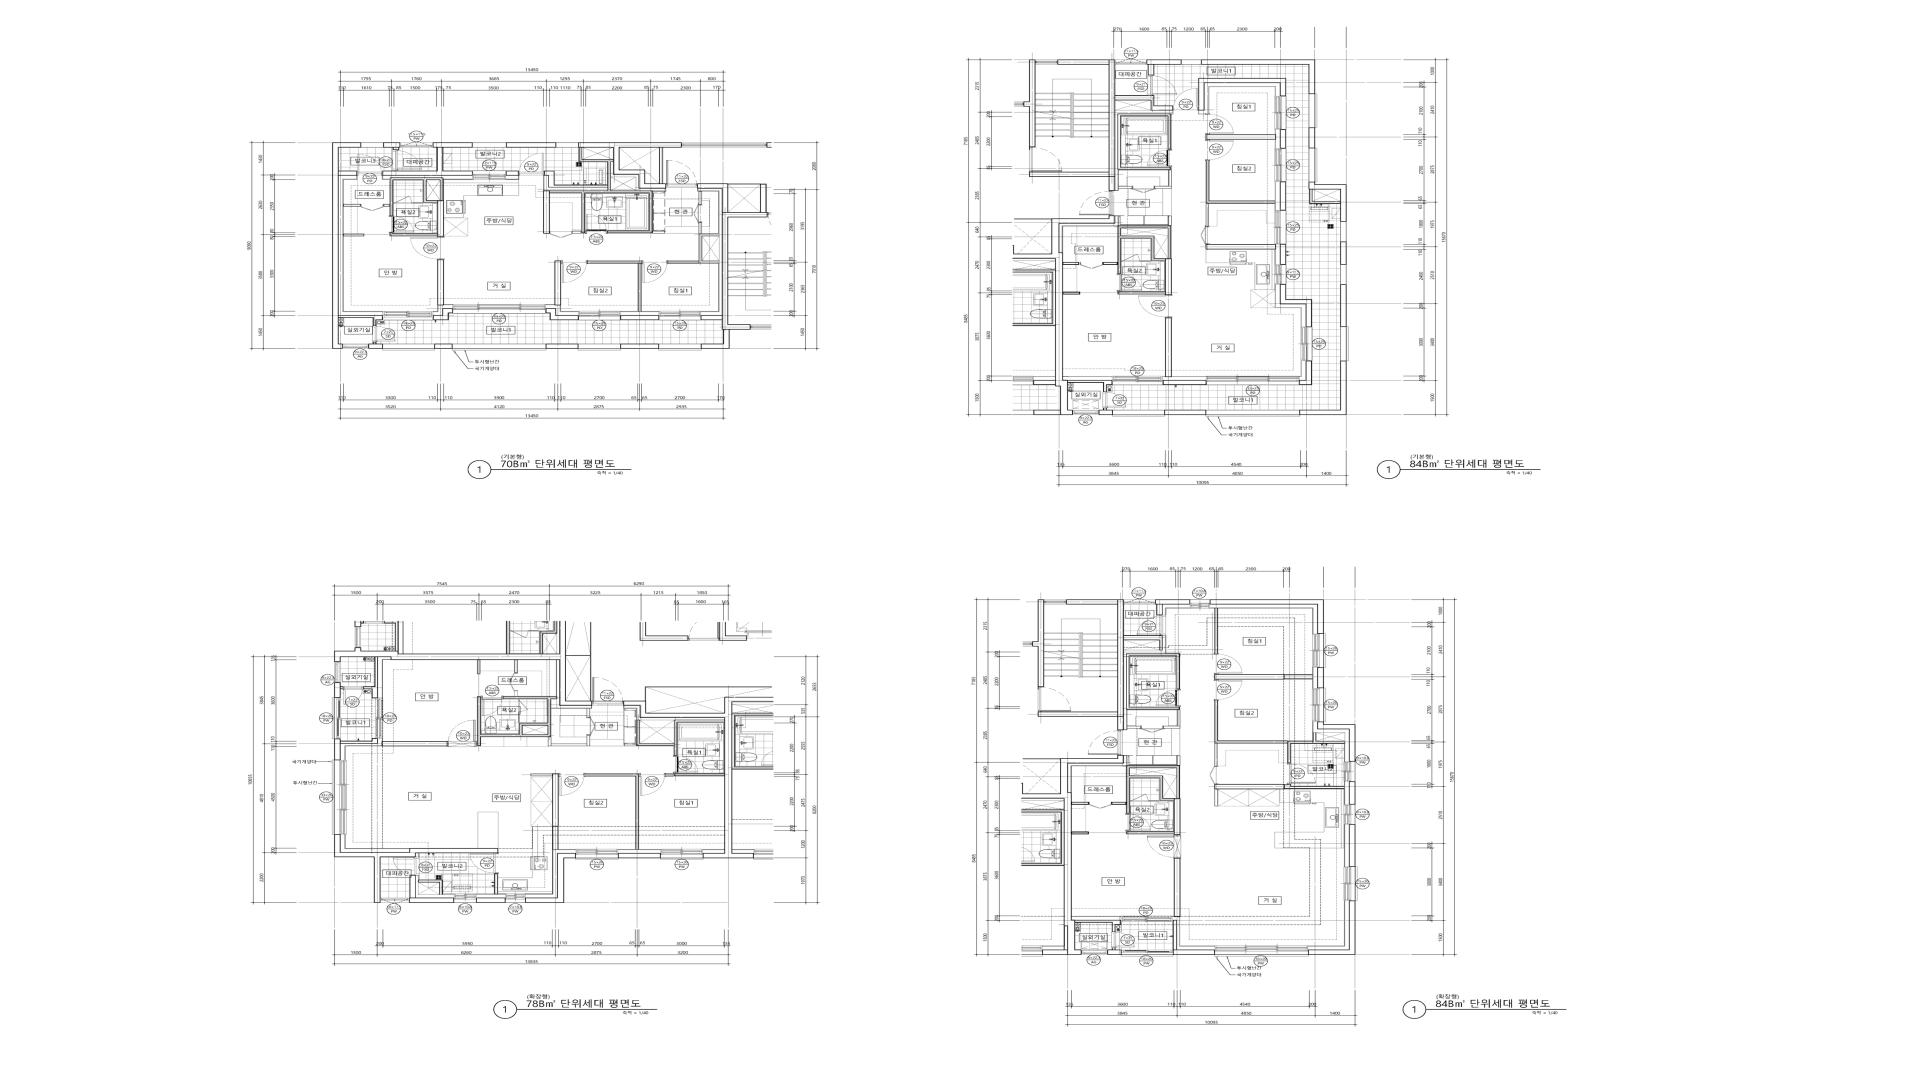door: (666, 160, 698, 187), (1088, 731, 1121, 756), (1038, 687, 1071, 712), (410, 236, 444, 260), (447, 720, 477, 746), (1080, 191, 1112, 216), (592, 678, 624, 703), (1029, 148, 1062, 171), (1147, 835, 1180, 858), (1138, 295, 1172, 318), (393, 150, 422, 171), (1137, 615, 1166, 636), (469, 853, 498, 874), (1172, 88, 1199, 111), (518, 153, 545, 175), (1205, 140, 1233, 161), (1288, 764, 1316, 785), (1215, 679, 1242, 700), (1147, 75, 1176, 95), (642, 261, 667, 284), (558, 774, 584, 795), (638, 774, 665, 795), (560, 261, 587, 282), (1205, 115, 1233, 135), (1215, 654, 1242, 674), (357, 154, 382, 175), (393, 857, 419, 876), (1126, 814, 1151, 832), (480, 696, 502, 716), (585, 214, 608, 233), (1147, 149, 1171, 167), (674, 756, 698, 774), (1156, 690, 1180, 707), (390, 216, 414, 233), (1118, 274, 1142, 291), (1102, 392, 1126, 407), (1112, 932, 1134, 948), (373, 326, 396, 342), (343, 687, 363, 704), (509, 673, 518, 691), (360, 204, 384, 211), (1133, 186, 1155, 193), (550, 231, 572, 237), (1089, 802, 1112, 808), (1141, 727, 1163, 733), (1080, 262, 1102, 269), (694, 204, 702, 223), (1209, 766, 1217, 785), (1130, 794, 1149, 802), (587, 717, 595, 736), (1201, 227, 1209, 244), (1121, 255, 1139, 261), (518, 699, 527, 712), (393, 196, 411, 203)
wall: (334, 621, 592, 705), (1029, 59, 1172, 191), (624, 698, 732, 858), (1038, 600, 1163, 731), (1060, 756, 1124, 955), (543, 142, 682, 233), (1055, 216, 1116, 415), (698, 183, 767, 349), (334, 835, 498, 903), (332, 142, 382, 349), (1215, 700, 1345, 764), (339, 175, 382, 315), (1102, 225, 1172, 295), (1112, 766, 1180, 835), (1205, 161, 1275, 227), (1116, 111, 1172, 191), (584, 774, 640, 849), (1124, 636, 1166, 731), (477, 696, 556, 746), (1209, 600, 1324, 634), (1201, 59, 1315, 94), (1211, 604, 1317, 634), (390, 178, 444, 236), (1117, 113, 1171, 170), (698, 189, 721, 315), (1126, 654, 1180, 709), (382, 142, 472, 175), (1199, 78, 1286, 111), (587, 261, 642, 311), (1199, 83, 1280, 115), (525, 853, 576, 903), (1308, 901, 1356, 955), (525, 849, 576, 898), (1300, 361, 1346, 415), (551, 659, 592, 717), (1068, 756, 1127, 793), (1059, 216, 1118, 253), (1308, 901, 1349, 949), (611, 162, 666, 191), (1317, 721, 1356, 762), (1308, 182, 1346, 222), (1312, 721, 1349, 762), (624, 705, 724, 720), (1172, 920, 1215, 955), (1172, 916, 1215, 949), (1280, 285, 1312, 327), (1275, 285, 1305, 327), (409, 876, 454, 903), (340, 835, 409, 852), (566, 655, 591, 700), (1033, 600, 1044, 687), (543, 175, 608, 191), (334, 738, 378, 761), (340, 738, 382, 761), (415, 876, 454, 898), (1215, 785, 1345, 790), (1029, 59, 1035, 148), (1146, 59, 1182, 75), (377, 657, 390, 698), (1155, 600, 1191, 615), (1215, 674, 1312, 679), (549, 736, 589, 746), (702, 236, 719, 261), (553, 774, 558, 849), (1166, 318, 1172, 377), (546, 309, 579, 320), (1174, 858, 1180, 918), (1205, 244, 1276, 249), (1205, 135, 1276, 140), (418, 880, 443, 894), (382, 175, 472, 179), (546, 305, 579, 315), (381, 741, 447, 746), (1163, 709, 1180, 729), (1299, 361, 1312, 385), (438, 260, 444, 306), (554, 261, 560, 306), (1155, 170, 1171, 189), (1163, 604, 1191, 615), (426, 181, 440, 200), (1340, 285, 1346, 327), (1349, 824, 1356, 866), (506, 142, 556, 148), (433, 309, 452, 320), (1163, 380, 1207, 385), (1344, 824, 1349, 866), (618, 853, 661, 858), (1164, 410, 1205, 415), (620, 315, 659, 320), (433, 305, 452, 315), (1063, 376, 1113, 380), (621, 344, 658, 349), (1072, 916, 1121, 920), (1215, 608, 1218, 654), (1163, 376, 1207, 380), (546, 344, 578, 349), (618, 849, 661, 853), (1340, 241, 1346, 265), (620, 311, 659, 315), (1280, 182, 1286, 211), (476, 898, 505, 903), (1275, 182, 1280, 211), (1349, 782, 1356, 804), (1317, 667, 1324, 688), (384, 142, 401, 150), (334, 683, 343, 698), (1308, 128, 1315, 148), (1299, 361, 1305, 380), (1344, 782, 1349, 804), (1098, 407, 1113, 415), (368, 342, 382, 349), (476, 894, 505, 898), (1280, 244, 1286, 265), (1312, 667, 1317, 688), (1275, 244, 1280, 265), (1275, 129, 1280, 149), (1280, 129, 1286, 149), (434, 344, 452, 349), (659, 148, 662, 183), (1108, 948, 1121, 955), (667, 261, 699, 264), (703, 849, 724, 853), (1215, 790, 1218, 807), (530, 774, 553, 777), (1215, 744, 1217, 766), (505, 171, 518, 175), (505, 175, 518, 179), (514, 659, 518, 673), (495, 874, 497, 894), (728, 183, 761, 185), (477, 659, 480, 674), (624, 744, 637, 746), (653, 231, 665, 233), (1178, 756, 1180, 766), (572, 231, 582, 233), (1168, 216, 1171, 225), (384, 204, 390, 207), (415, 853, 419, 857), (1149, 800, 1159, 802), (514, 691, 517, 696), (518, 712, 520, 723), (411, 203, 422, 203), (1139, 261, 1150, 261)
window: (332, 761, 347, 835), (1215, 945, 1308, 956), (452, 305, 546, 314), (1207, 376, 1299, 385), (1205, 410, 1300, 417), (452, 344, 546, 351), (382, 311, 433, 320), (1113, 376, 1163, 385), (1344, 866, 1357, 901), (576, 849, 618, 860), (661, 849, 703, 860), (1312, 634, 1325, 667), (1312, 688, 1325, 721), (579, 311, 620, 320), (659, 311, 700, 320), (1302, 327, 1312, 361), (382, 344, 435, 351), (1275, 96, 1286, 129), (1275, 149, 1286, 182), (1275, 211, 1286, 244), (1113, 410, 1164, 417), (332, 698, 340, 738), (1340, 327, 1349, 361), (1308, 148, 1317, 182), (1308, 94, 1317, 128), (658, 344, 702, 351), (578, 344, 621, 351), (1121, 951, 1174, 956), (1121, 916, 1172, 922), (472, 171, 506, 179), (376, 698, 382, 738), (1344, 762, 1356, 782), (1344, 804, 1356, 824), (400, 141, 433, 148), (1275, 265, 1286, 285), (454, 894, 476, 903), (1116, 58, 1146, 65), (380, 898, 409, 905), (505, 894, 525, 903), (472, 142, 506, 148), (1124, 599, 1155, 604), (1191, 600, 1211, 608), (334, 662, 340, 683), (343, 344, 368, 349), (1073, 410, 1098, 415), (1340, 265, 1346, 285), (1340, 222, 1346, 241), (1035, 59, 1058, 65), (556, 142, 579, 148), (361, 142, 384, 148), (1081, 951, 1108, 955), (1182, 59, 1201, 65), (1044, 600, 1067, 604)
